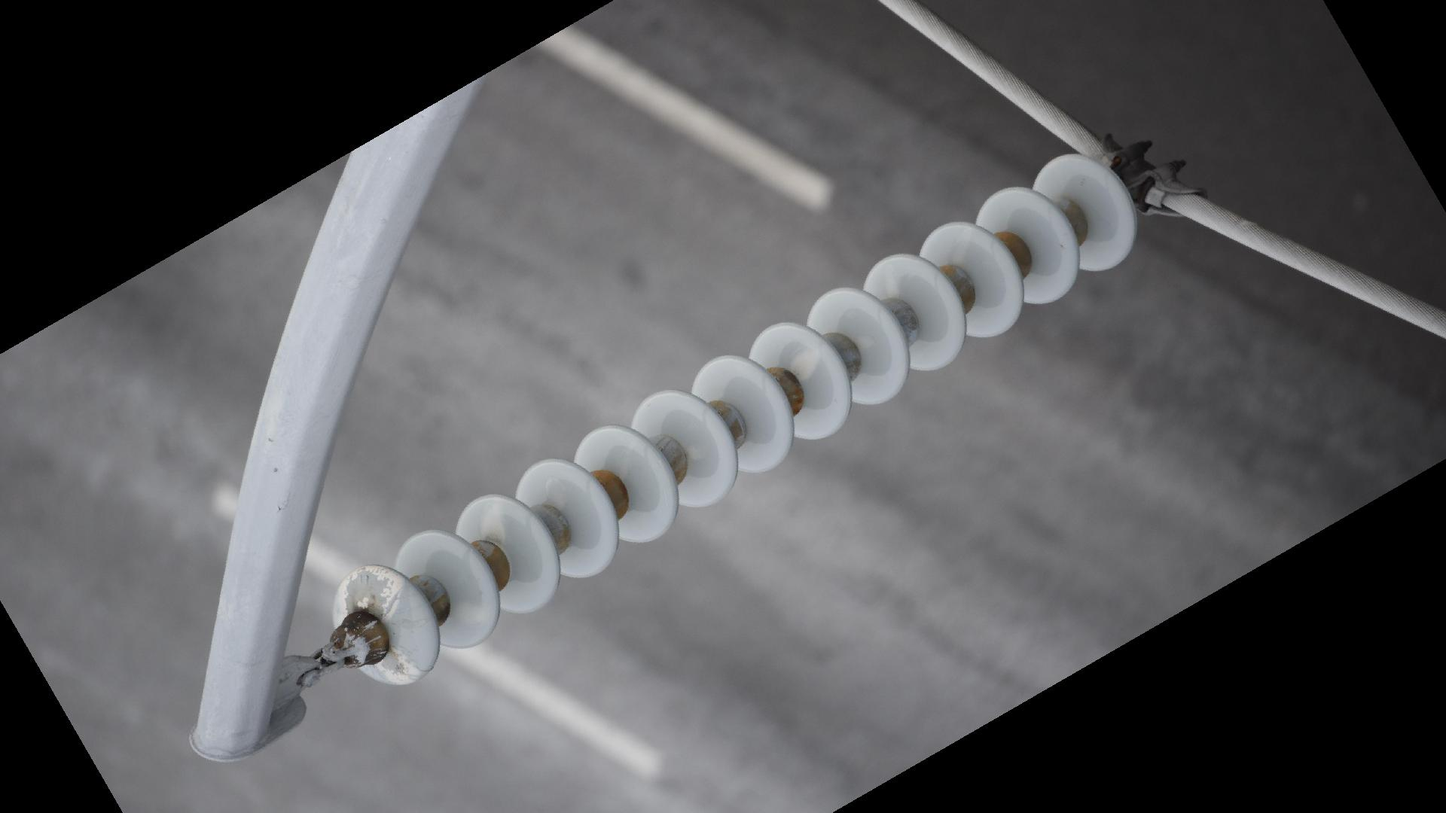insulator: (323, 147, 1146, 696)
insulator_flashover: (341, 562, 404, 617), (375, 647, 431, 687)
